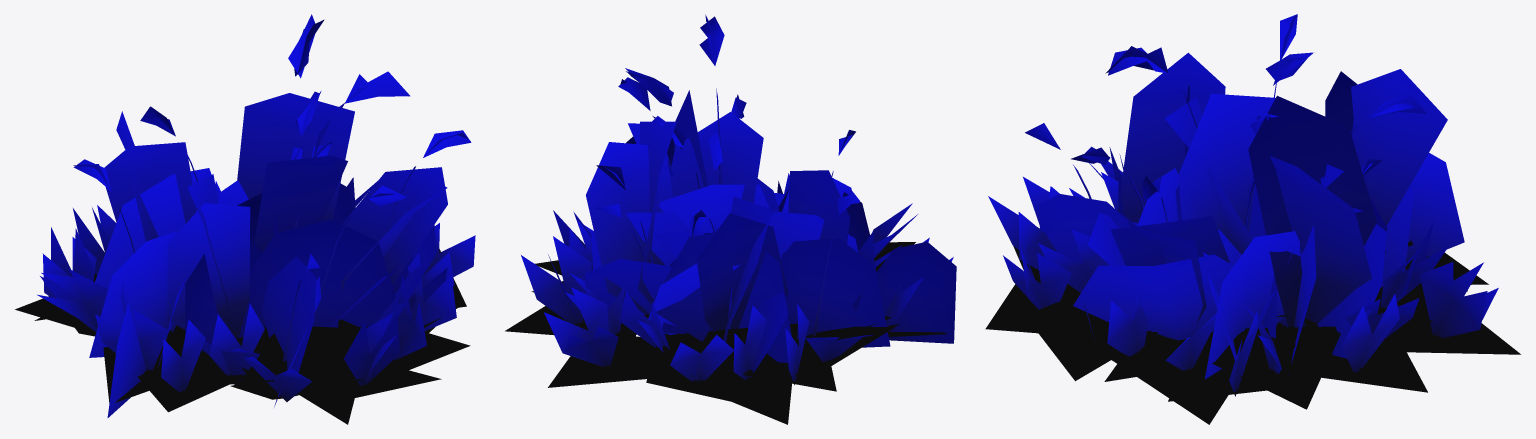
File: SM_WildGrass_M_02.fbx
3 renders of one model, left to right at view 1: azimuth 30°, elevation 25°; view 2: azimuth 150°, elevation 25°; view 3: azimuth 270°, elevation 25°, orthographic. The views are drawn at different scales.
Visible parts, largest first — view 1: SM_WildGrass_M_02_LOD0; view 2: SM_WildGrass_M_02_LOD0; view 3: SM_WildGrass_M_02_LOD0.
Boxes of the visible parts, left/top/right/bottom form: SM_WildGrass_M_02_LOD0: left=15, top=14, right=475, bottom=424; SM_WildGrass_M_02_LOD0: left=505, top=14, right=956, bottom=424; SM_WildGrass_M_02_LOD0: left=985, top=14, right=1520, bottom=424.
Size of the model in its own units: 136 by 144 by 97.24.
